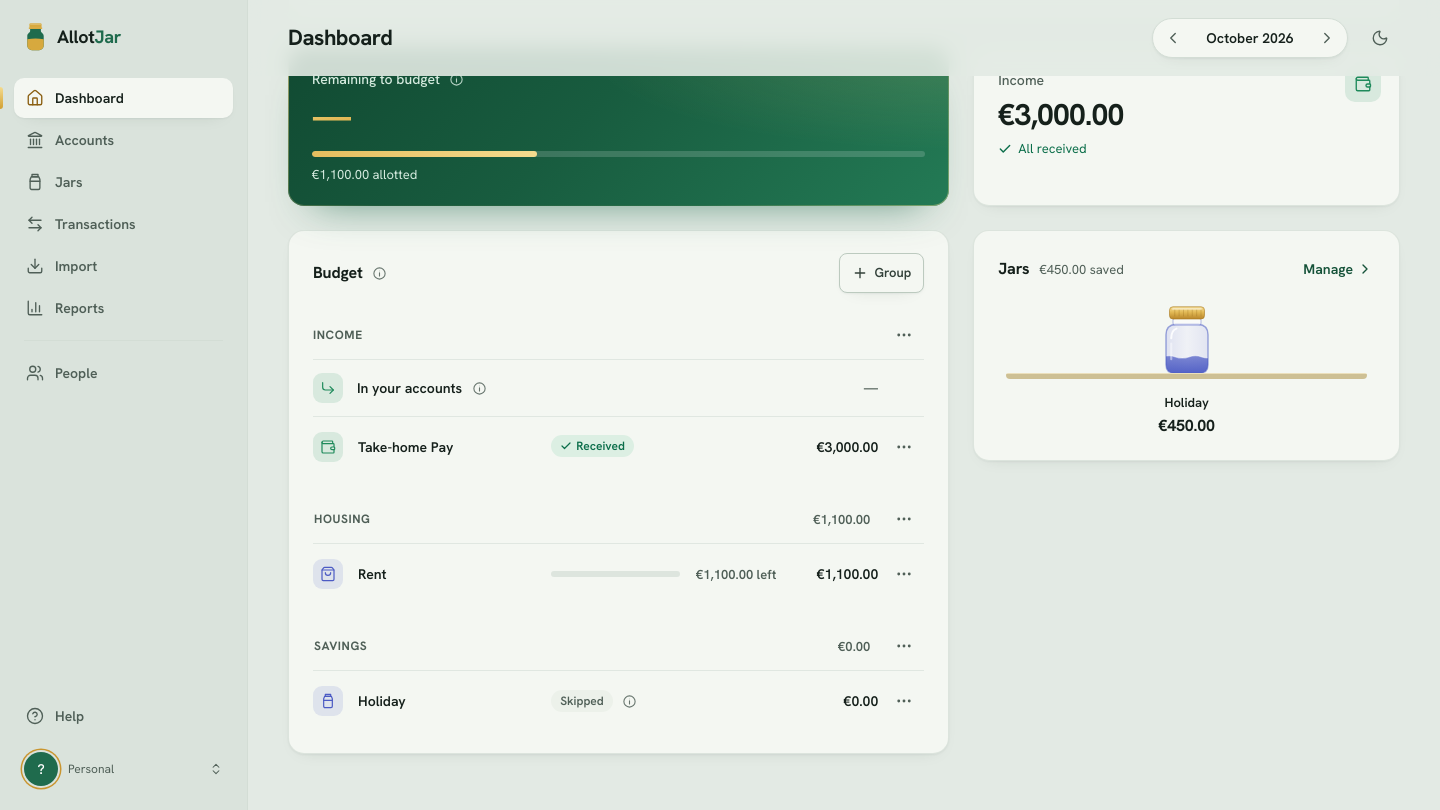
it: DashboardPage — the jars shelf follows the viewed month (W05) › DASH-080: typing an amount on a skipped jar line clears its Skipped tag, as the shelf's re-read does
(page scrolled)
Expected: the heading "Jars" is shown, x1=998 y1=257 x2=1029 y2=281
Expected: the text "Skipped" is shown, x1=551 y1=690 x2=613 y2=712
Click the button named "Planned amount for Holiday:" at (861, 701), box x1=838 y1=689 x2=884 y2=713
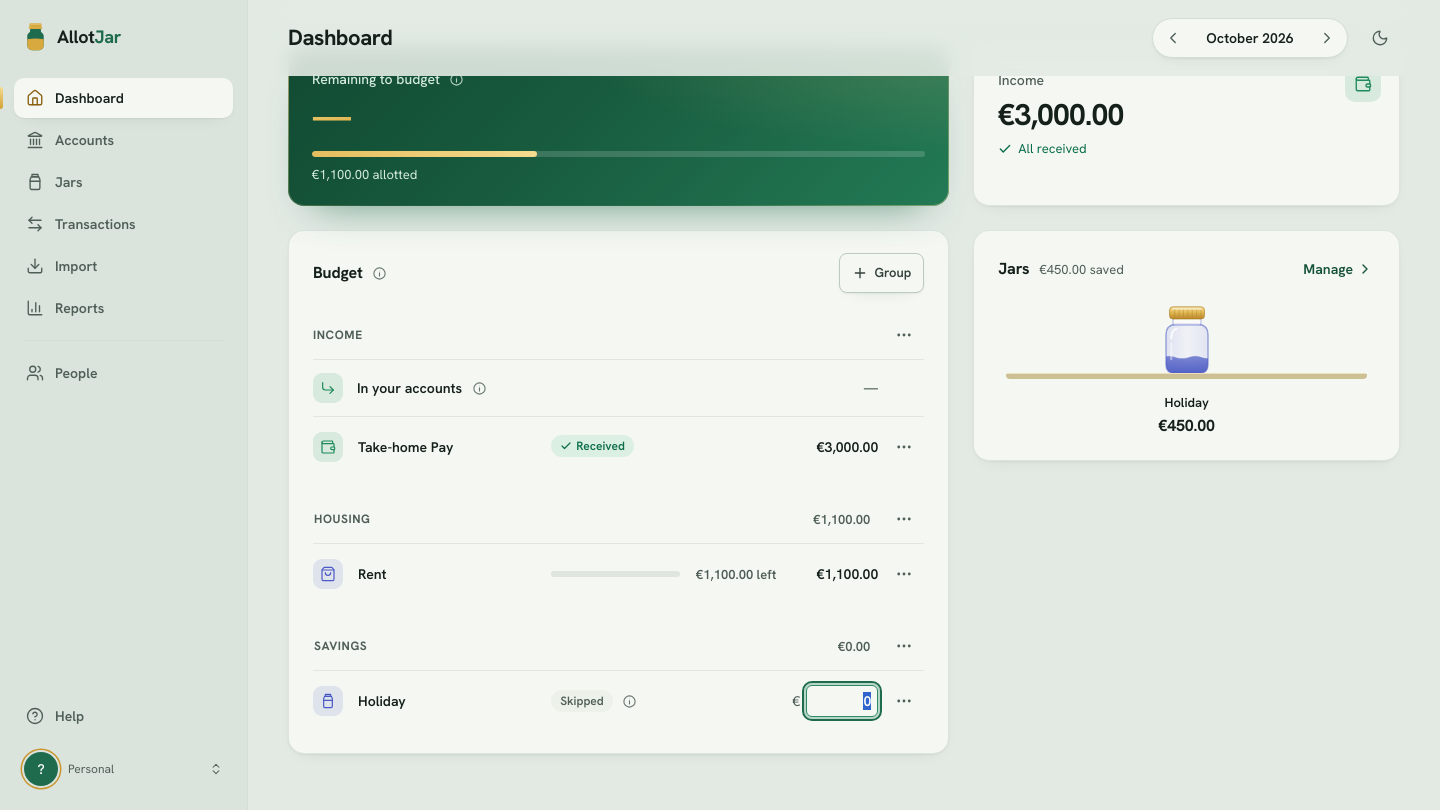
Replace the text in the field named "Planned amount for Holiday" with "200" at (842, 701), box x1=806 y1=685 x2=878 y2=717
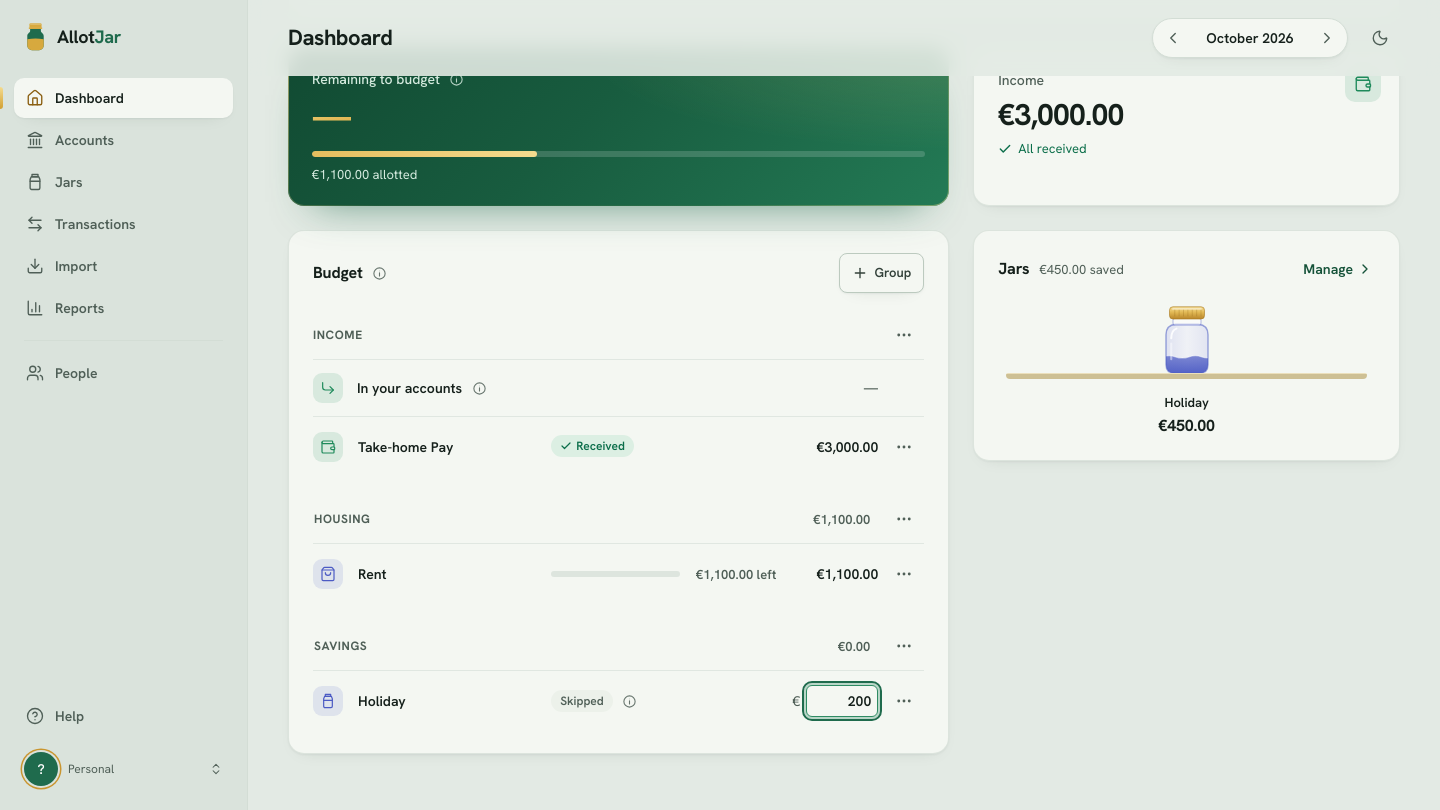
Press Tab
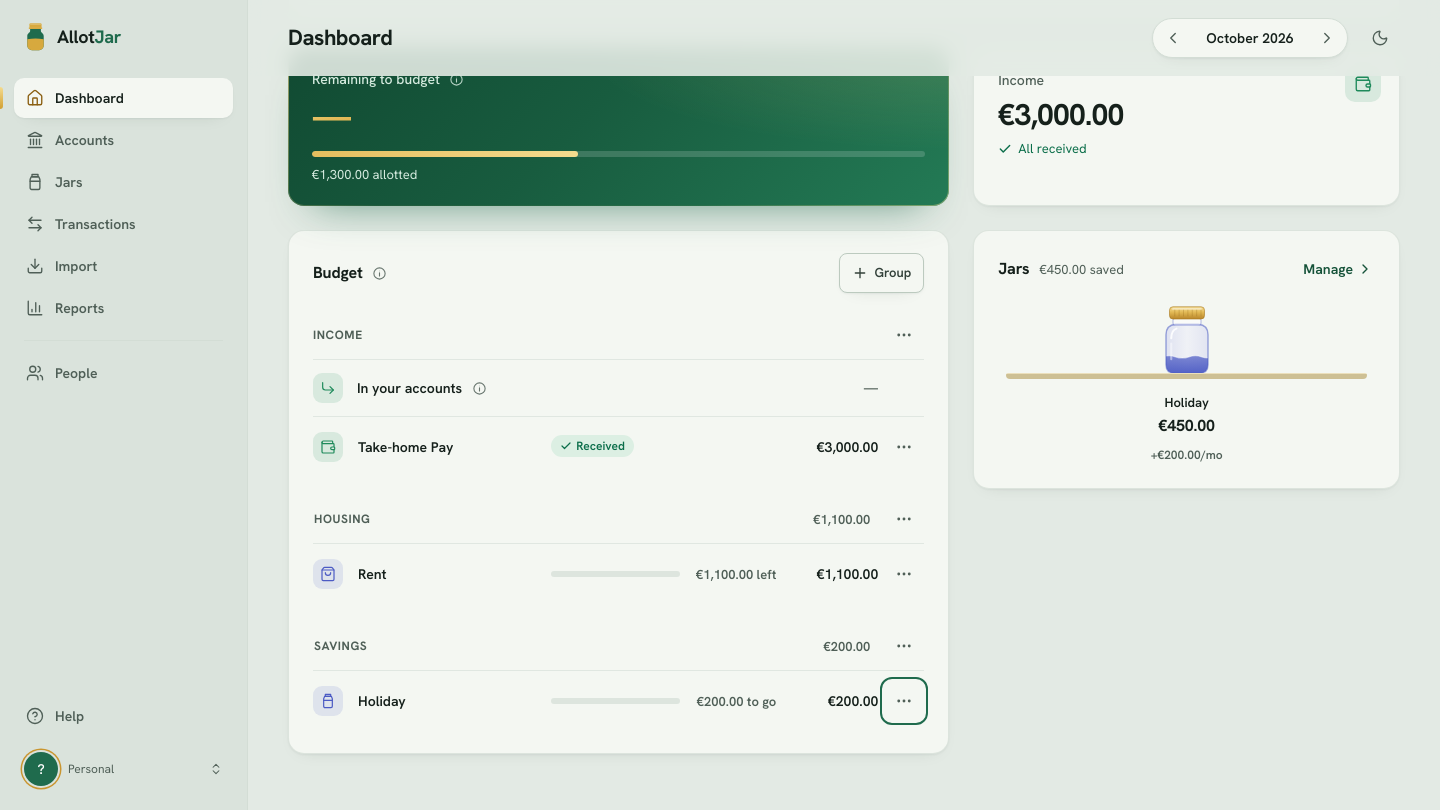
Now the text "+€200.00/mo" is shown, box x1=1151 y1=444 x2=1223 y2=466
Now the text "Skipped" is gone
Click the button named "Holiday: more actions" at (904, 701), box x1=884 y1=681 x2=924 y2=721
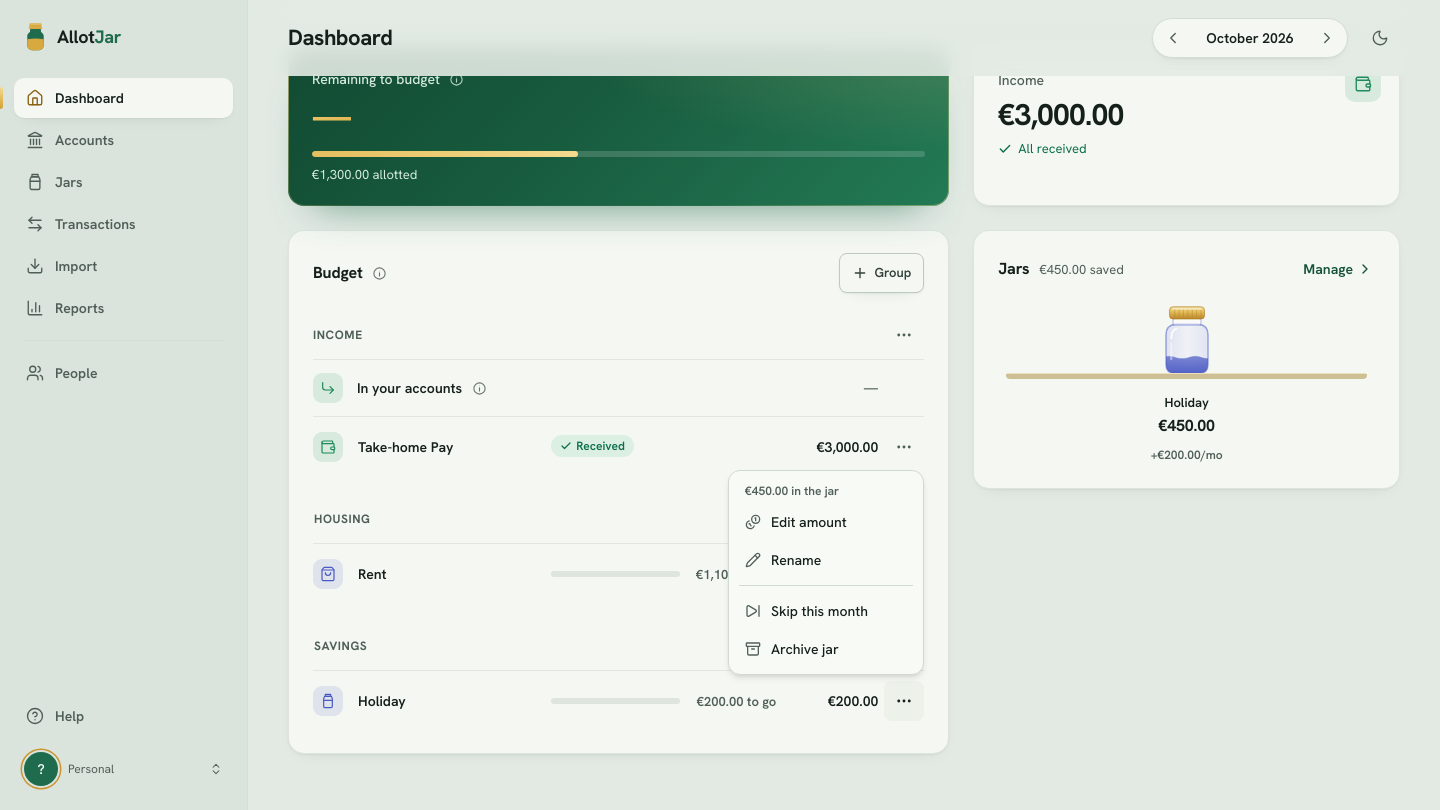
Now the menu is shown, box x1=728 y1=470 x2=924 y2=675
Now the menu item "Skip this month" is shown, box x1=745 y1=602 x2=868 y2=620
